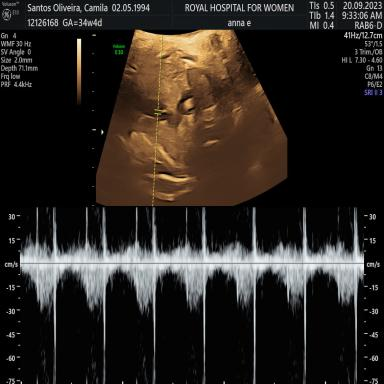Ultrasound-Waves: (29, 207, 358, 384)
